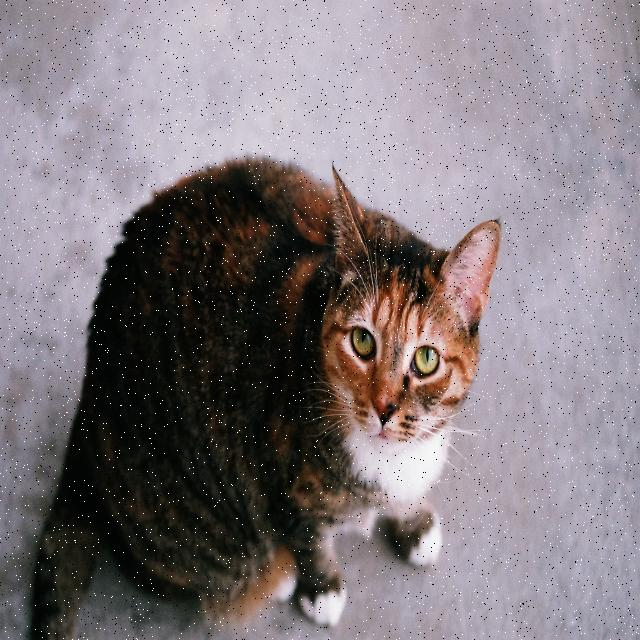cat: (31, 159, 501, 638)
